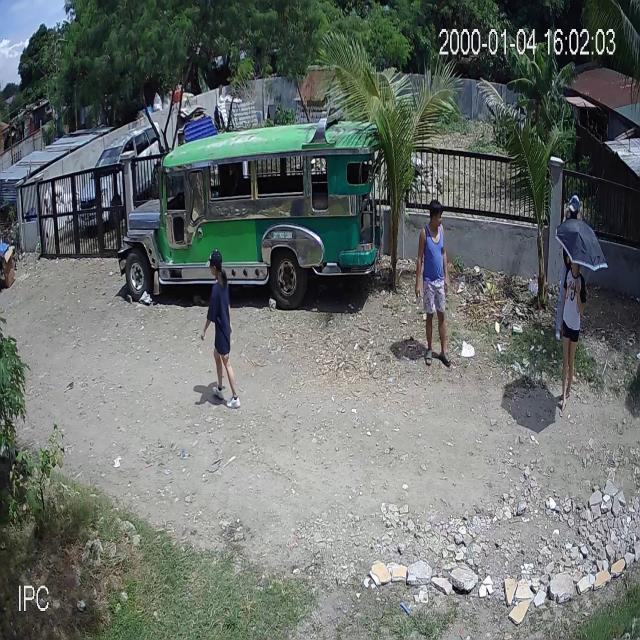standing: (554, 194, 586, 344)
walking: (416, 195, 454, 370), (204, 249, 242, 410), (552, 253, 586, 417)
